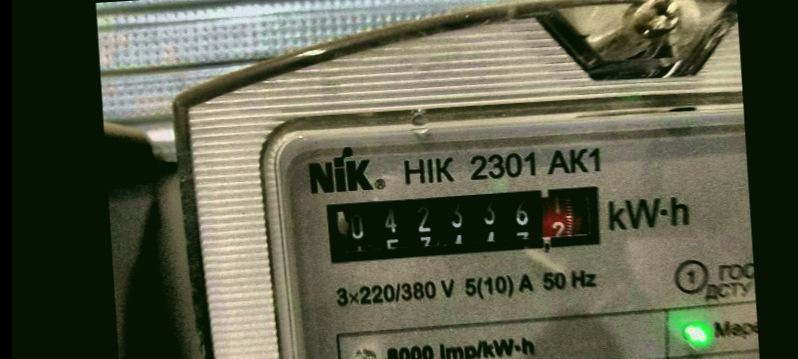0: (345, 212, 363, 241)
1: (547, 193, 561, 216)
2: (413, 203, 431, 233), (547, 219, 564, 238)
3: (476, 196, 494, 227), (445, 200, 461, 229)
4: (379, 204, 398, 235)
6: (511, 196, 529, 227)
screen: (312, 173, 612, 273)
